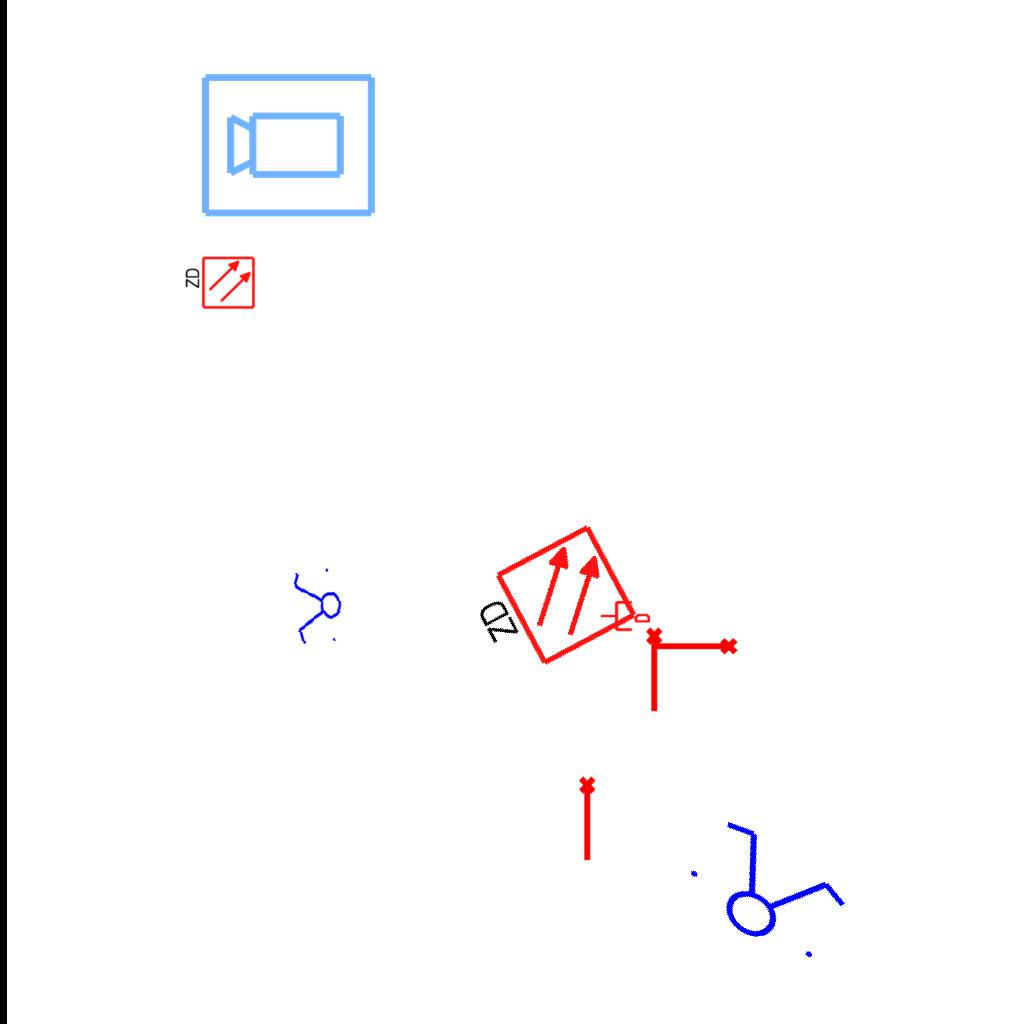ASR_Ansaugoeffnung: (577, 775, 600, 863), (644, 626, 667, 714), (651, 636, 739, 659)
Datenanschluss_einfach: (599, 598, 651, 634)
KFO_Kamera_mit_Festobjektiv: (198, 67, 380, 221)
Serienschalter: (668, 804, 862, 980), (289, 562, 347, 652)
ZD_Melder_in_Zwischendecke_mit_Revisionsoeffnung_mind_40_x_40_cm: (457, 520, 643, 691), (182, 255, 256, 312)
